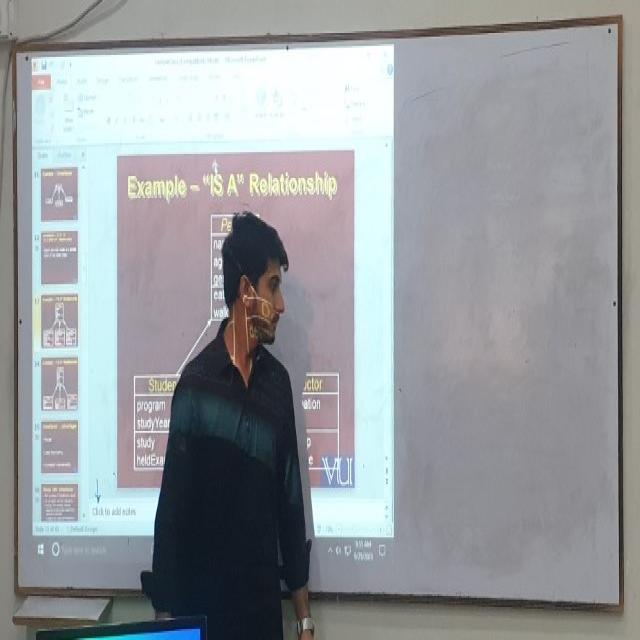Instructor: (168, 201, 304, 623)
Slide: (31, 43, 393, 577)
White-board: (14, 20, 623, 609)
